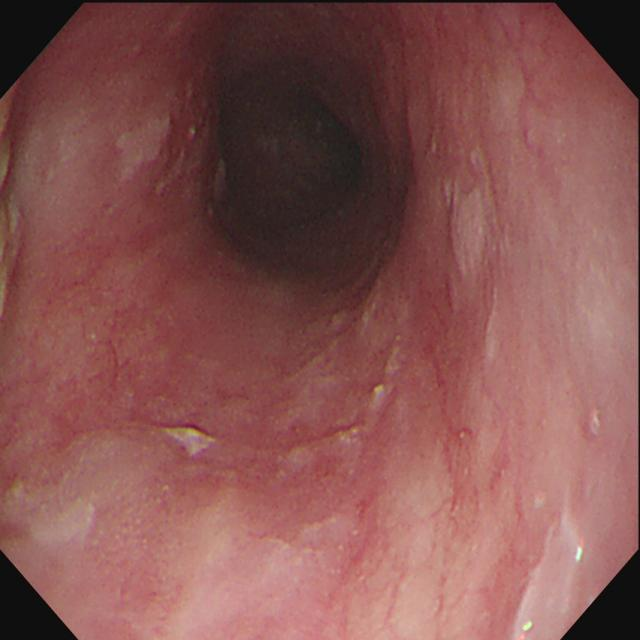E: (230, 97, 359, 226)
J: (117, 113, 198, 197), (444, 181, 489, 282), (167, 426, 218, 458)
